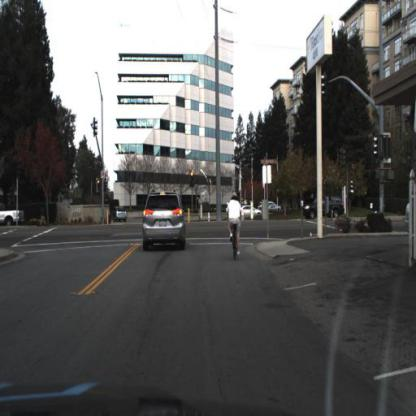biker: (226, 193, 244, 262)
car: (139, 189, 191, 260), (300, 193, 349, 224), (1, 205, 25, 232), (110, 205, 128, 223), (241, 204, 261, 220)
trafficLight-Red: (190, 169, 198, 192), (190, 171, 196, 186), (98, 180, 102, 190)
